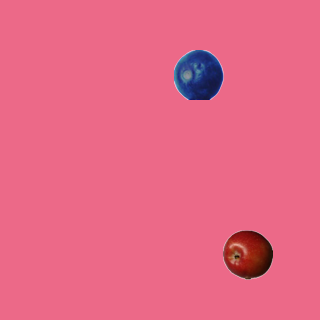Apple Braeburn: (222, 229, 272, 279)
Huckleberry: (173, 49, 223, 99)
